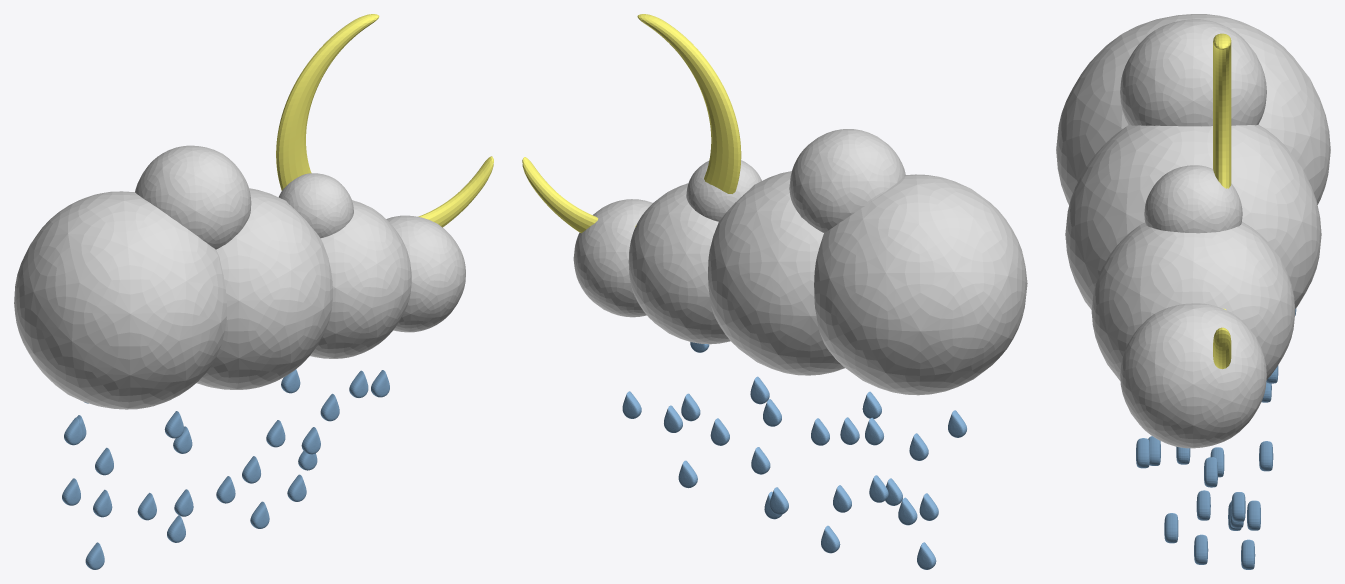
Rendered from rainy night.fbx.
3 renders of one model, left to right at view 1: azimuth 30°, elevation 25°; view 2: azimuth 150°, elevation 25°; view 3: azimuth 270°, elevation 25°, orthographic. The views are drawn at different scales.
Visible parts, largest first — view 1: qw.010, Окружность.002; view 2: qw.010, Окружность.002; view 3: qw.010, Окружность.002, Плоскость.383, Плоскость.382, Плоскость.378, Плоскость.384, Плоскость.389, Плоскость.381, Плоскость.379, Плоскость.377, Плоскость.376.
Part boxes in pixels (box(x1,y1,x2,y2)): qw.010: box(14, 145, 465, 409); Окружность.002: box(276, 14, 493, 227); qw.010: box(573, 129, 1027, 395); Окружность.002: box(522, 14, 741, 233); qw.010: box(1056, 14, 1330, 448); Окружность.002: box(1213, 33, 1231, 369); Плоскость.383: box(1196, 490, 1210, 520); Плоскость.382: box(1164, 513, 1178, 543); Плоскость.378: box(1231, 492, 1245, 521); Плоскость.384: box(1259, 441, 1273, 471); Плоскость.389: box(1204, 457, 1217, 487); Плоскость.381: box(1194, 534, 1208, 564); Плоскость.379: box(1241, 539, 1255, 569); Плоскость.377: box(1247, 500, 1260, 530); Плоскость.376: box(1136, 438, 1149, 468).
Size of the model in its own units: 459 by 184 by 447.
